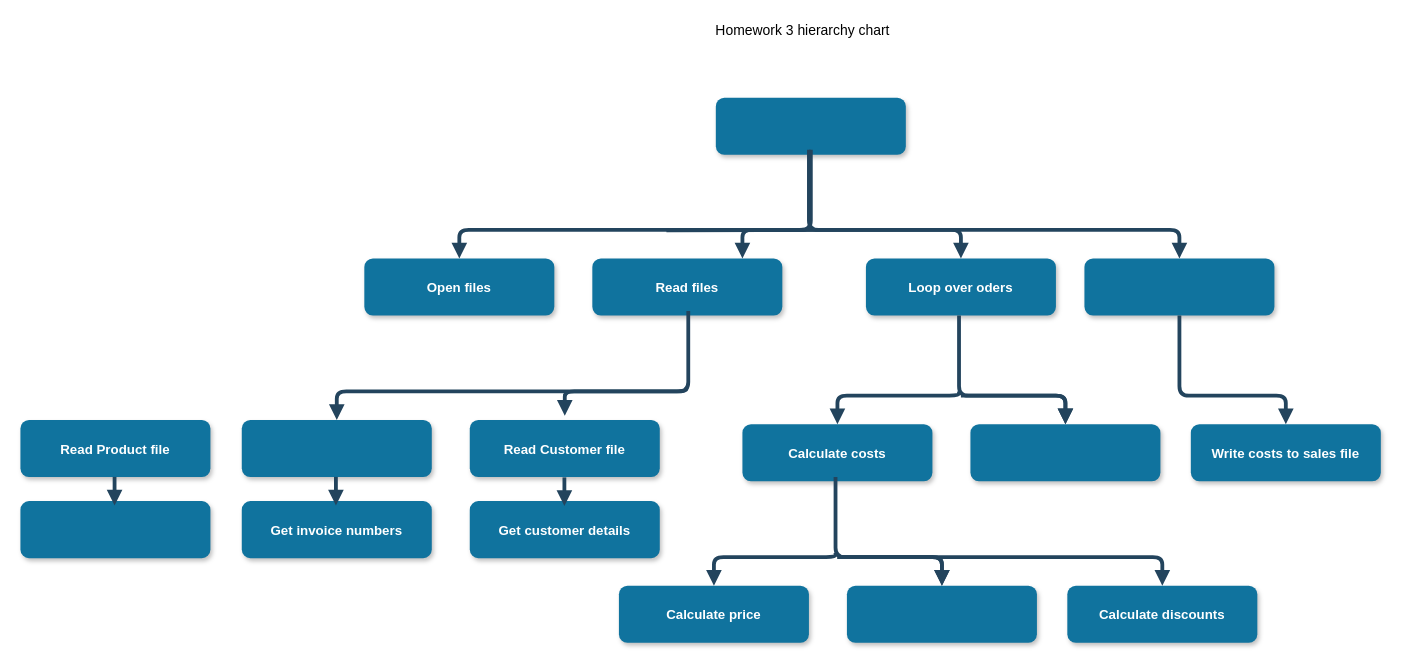
This 1402x665 diagram has some shape labels left out. Each missing label, with the centre of its shape:
Calculate total: the point at 942,615
Get price from product code: the point at 116,530
Print order detials: the point at 1066,453
Process Invoices: the point at 811,127
Read sales file: the point at 337,449
Write files: the point at 1180,288
